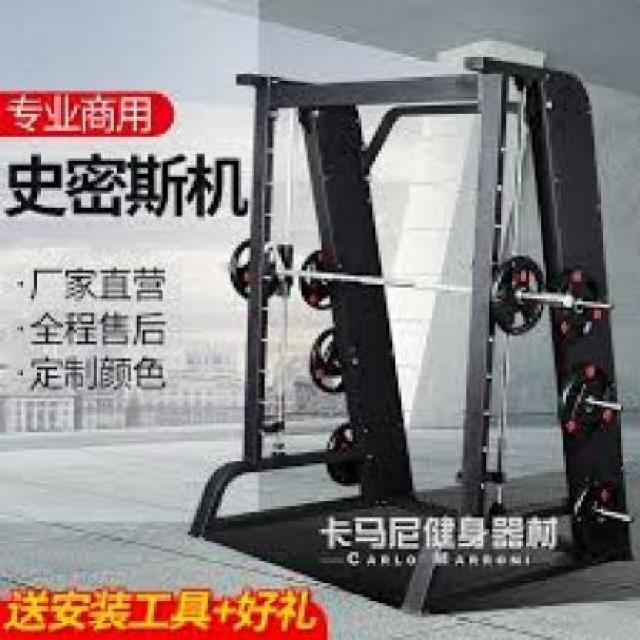smith machine: (247, 50, 640, 515)
